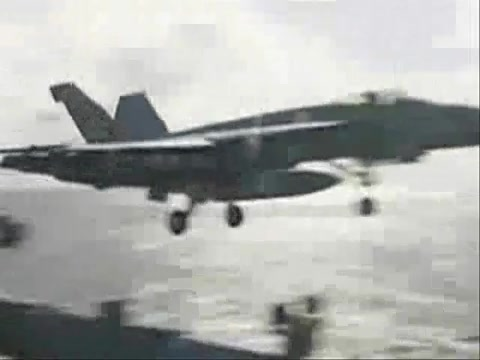aeroplane: (1, 82, 480, 236)
